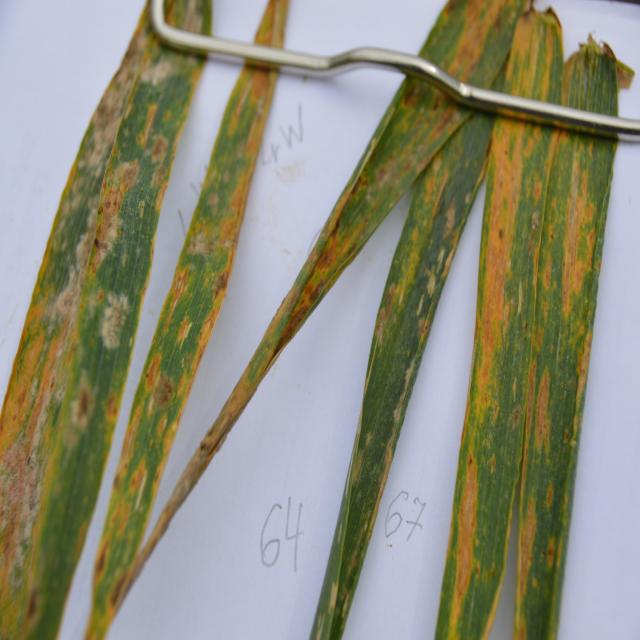wheat-septoria: (132, 79, 465, 581), (0, 16, 204, 640), (84, 83, 274, 640), (325, 127, 491, 640), (433, 120, 559, 640), (516, 135, 619, 640), (495, 12, 619, 113)
